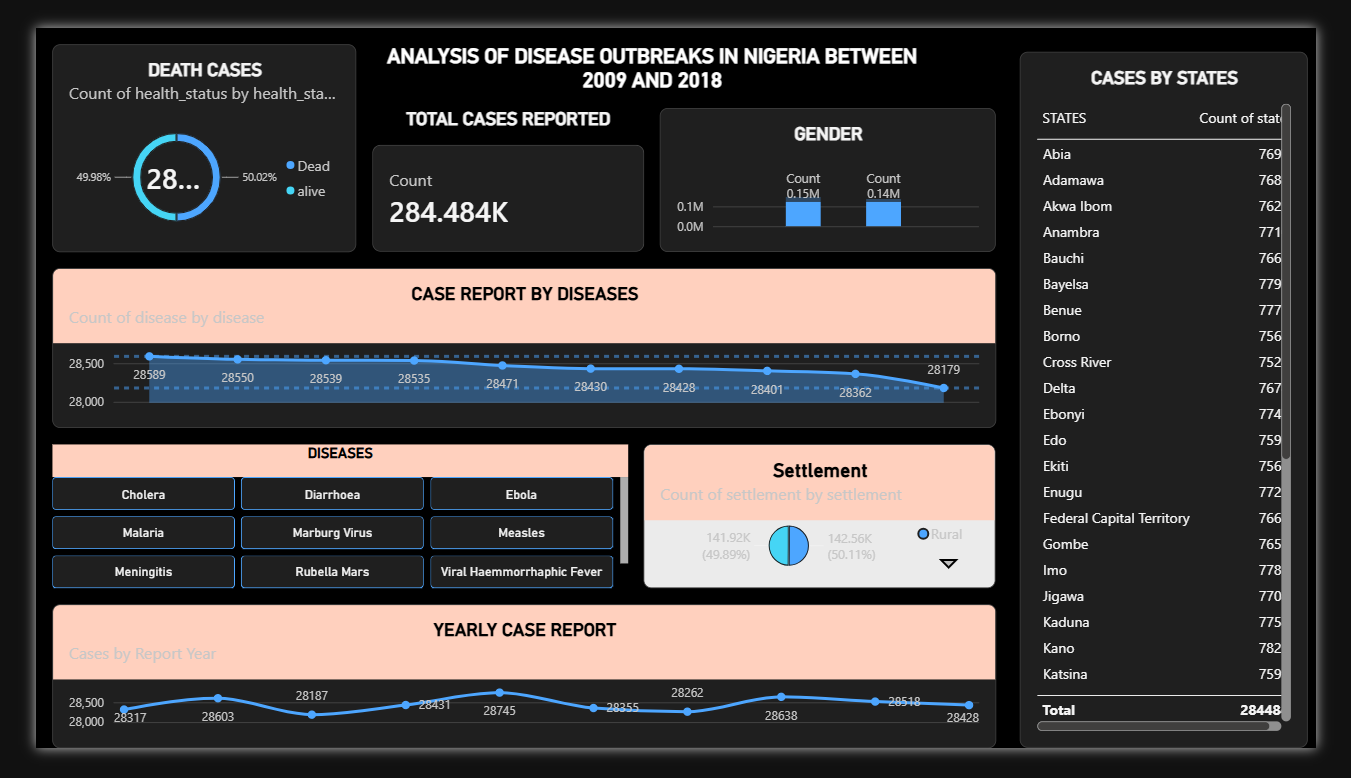

Layout of this report page (visuals, bound fields, positions):
{"tool":"powerbi","page":{"name":"Page 1","canvas":[1280,720],"ordinal":0},"visuals":[{"type":"advancedSlicerVisual","title":"DISEASES","fields":{"Values":["Table1.disease"]},"box":[16,416,576,144],"z":1000},{"type":"donutChart","title":"DEATH CASES","fields":{"Category":["Table1.health_status"],"Y":["CountNonNull(Table1.health_status)"]},"box":[16,16,304,208],"z":2000},{"type":"lineStackedColumnComboChart","title":"GENDER","fields":{"Category":["Table1.gender"],"Y":["CountNonNull(Table1.gender)"]},"box":[624,80,336,144],"z":3000},{"type":"areaChart","title":"CASE REPORT BY DISEASES","fields":{"Category":["Table1.disease"],"Y":["CountNonNull(Table1.disease)"]},"box":[16,240,944,160],"z":4000},{"type":"pieChart","title":"Settlement","fields":{"Category":["Table1.settlement"],"Y":["CountNonNull(Table1.settlement)"]},"box":[608,416,352,144],"z":5000},{"type":"tableEx","title":"CASES BY STATES","fields":{"Values":["Table1.state","CountNonNull(Table1.state)"]},"box":[984,24,288,696],"z":6000},{"type":"cardVisual","title":"TOTAL CASES REPORTED","fields":{"Data":["CountNonNull(Table1.disease)"]},"box":[336,80,272,144],"z":7000},{"type":"lineChart","title":"YEARLY CASE REPORT","fields":{"Category":["Table1.report_year"],"Y":["CountNonNull(Table1.report_year)"]},"box":[16,576,944,144],"z":8000},{"type":"textbox","title":"ANALYSIS OF DISEASE OUTBREAKS IN NIGERIA BETWEEN 2009 AND 2018","box":[336,16,560,48],"z":9000}]}

Visuals, with their boxes in screenshot pixels (x1, y1, x2, y2), scaled from the page's 1280x720 canvas onto the 1351x778 screenshot:
"DISEASES" advancedSlicerVisual: bbox=[17, 450, 625, 605]
"DEATH CASES" donutChart: bbox=[17, 17, 338, 242]
"GENDER" lineStackedColumnComboChart: bbox=[659, 86, 1013, 242]
"CASE REPORT BY DISEASES" areaChart: bbox=[17, 259, 1013, 432]
"Settlement" pieChart: bbox=[642, 450, 1013, 605]
"CASES BY STATES" tableEx: bbox=[1039, 26, 1343, 777]
"TOTAL CASES REPORTED" cardVisual: bbox=[355, 86, 642, 242]
"YEARLY CASE REPORT" lineChart: bbox=[17, 622, 1013, 777]
"ANALYSIS OF DISEASE OUTBREAKS IN NIGERIA BETWEEN 2009 AND 2018" textbox: bbox=[355, 17, 946, 69]
